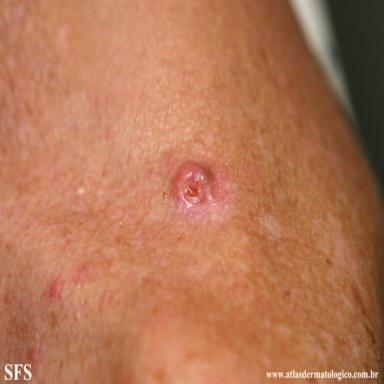basal-cell-carcinoma: (173, 163, 215, 208)
